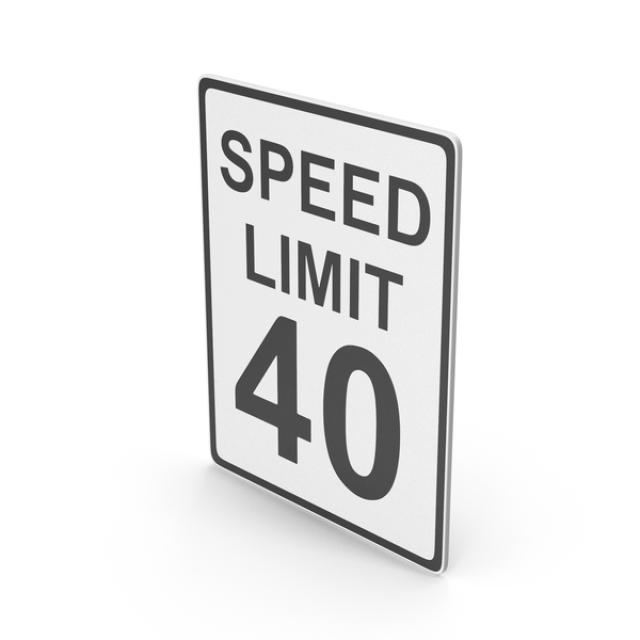speedLimit40: (198, 76, 466, 580)
